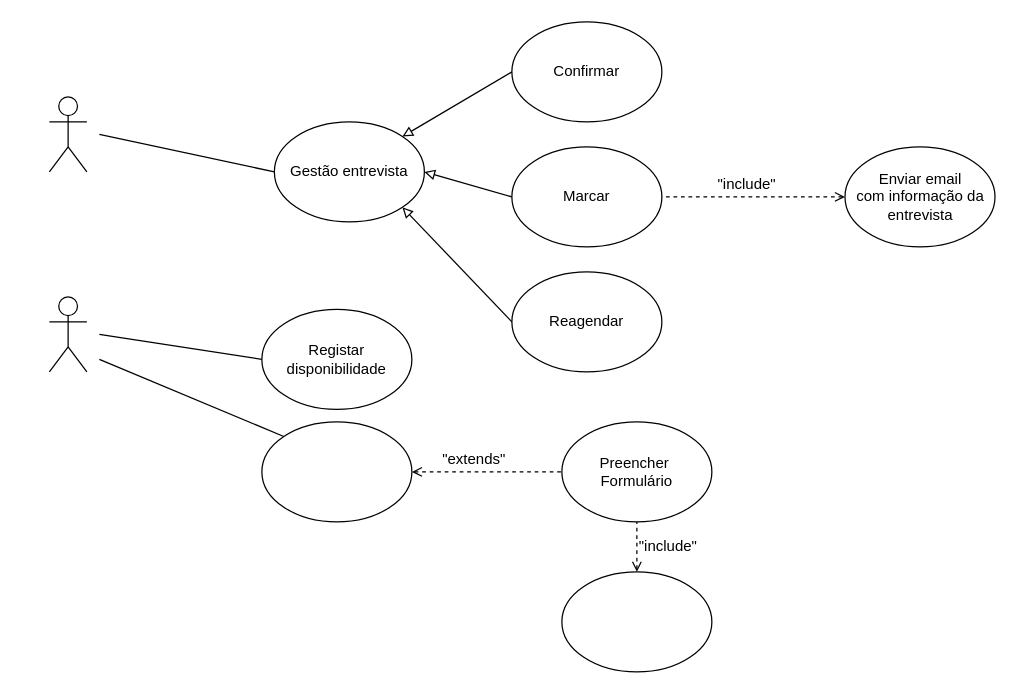
This 1018x694 diagram has some shape labels left out. Each missing label, with the centre of its shape:
"Administrador" belongs at [67,134].
"Consultar dados candidato" belongs at [336,471].
"Entrevistador" belongs at [67,334].
"Registar duração entrevista" belongs at [636,621].
